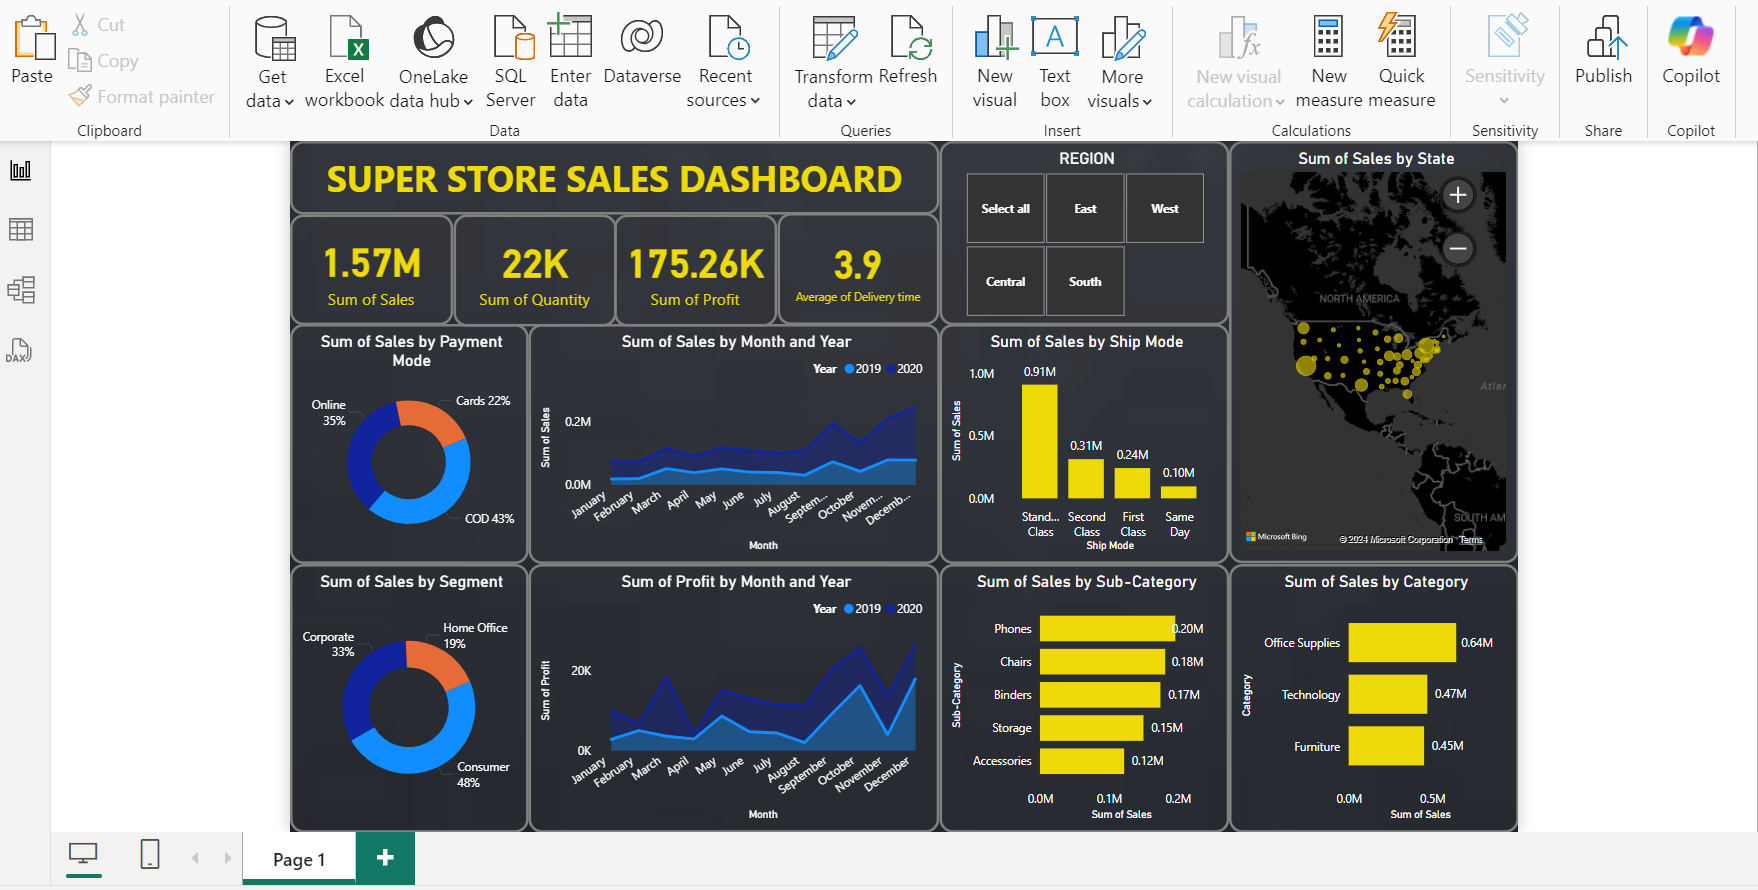

This screenshot's page, from the dashboard's own definition file:
{"tool":"powerbi","page":{"name":"Page 1","canvas":[1280,720],"ordinal":0},"visuals":[{"type":"barChart","fields":{"Category":["SuperStore_Sales_Dataset.Category"],"Y":["Sum(SuperStore_Sales_Dataset.Sales)"]},"box":[978,440,302,280],"z":0},{"type":"barChart","fields":{"Category":["SuperStore_Sales_Dataset.Sub-Category"],"Y":["Sum(SuperStore_Sales_Dataset.Sales)"]},"box":[676,440,302,280],"z":1000},{"type":"columnChart","fields":{"Category":["SuperStore_Sales_Dataset.Ship Mode"],"Y":["Sum(SuperStore_Sales_Dataset.Sales)"]},"box":[676.8,193.8,301.7,250.1],"z":2000},{"type":"map","fields":{"Category":["SuperStore_Sales_Dataset.State"],"Size":["Sum(SuperStore_Sales_Dataset.Sales)"]},"box":[978,0,302,440],"z":3000},{"type":"slicer","title":"REGION","fields":{"Values":["SuperStore_Sales_Dataset.Region"]},"box":[676,0,302,192],"z":4000},{"type":"stackedAreaChart","fields":{"Y":["Sum(SuperStore_Sales_Dataset.Sales)"],"Category":["SuperStore_Sales_Dataset.Order Date.Variation.Date Hierarchy.Month"],"Series":["SuperStore_Sales_Dataset.Order Date.Variation.Date Hierarchy.Year"]},"box":[248.3,190,428.3,250],"z":5000},{"type":"stackedAreaChart","fields":{"Y":["Sum(SuperStore_Sales_Dataset.Profit)"],"Category":["SuperStore_Sales_Dataset.Order Date.Variation.Date Hierarchy.Month"],"Series":["SuperStore_Sales_Dataset.Order Date.Variation.Date Hierarchy.Year"]},"box":[248,440,428,280],"z":6000},{"type":"donutChart","fields":{"Category":["SuperStore_Sales_Dataset.Segment"],"Y":["Sum(SuperStore_Sales_Dataset.Sales)"]},"box":[0,440,248.3,280],"z":7000},{"type":"donutChart","fields":{"Category":["SuperStore_Sales_Dataset.Payment Mode"],"Y":["Sum(SuperStore_Sales_Dataset.Sales)"]},"box":[0,190,248.3,250],"z":8000},{"type":"textbox","box":[0,0,676.7,76.7],"z":9000},{"type":"card","fields":{"Values":["Sum(SuperStore_Sales_Dataset.Sales)"]},"box":[0,76.7,170,115],"z":10000},{"type":"card","fields":{"Values":["Sum(SuperStore_Sales_Dataset.Quantity)"]},"box":[170,76.7,170,116.7],"z":11000},{"type":"card","fields":{"Values":["Sum(SuperStore_Sales_Dataset.Profit)"]},"box":[338.3,76.7,170,116.7],"z":12000},{"type":"card","fields":{"Values":["Avg(SuperStore_Sales_Dataset.AVG delevery time)"]},"box":[508.3,75,168.3,116.7],"z":13000}]}

Visuals, with their boxes on the page's 1280x720 design canvas (x1, y1, x2, y2). These are canvas units, not pixel positions in the 1758x890 screenshot, which may show the page scaled, cropped or inside an application window:
barChart - SuperStore_Sales_Dataset.Category x Sum(SuperStore_Sales_Dataset.Sales): 978,440,1280,720
barChart - SuperStore_Sales_Dataset.Sub-Category x Sum(SuperStore_Sales_Dataset.Sales): 676,440,978,720
columnChart - SuperStore_Sales_Dataset.Ship Mode x Sum(SuperStore_Sales_Dataset.Sales): 677,194,978,444
map - SuperStore_Sales_Dataset.State x Sum(SuperStore_Sales_Dataset.Sales): 978,0,1280,440
"REGION" slicer: 676,0,978,192
stackedAreaChart - Sum(SuperStore_Sales_Dataset.Sales) x SuperStore_Sales_Dataset.Order Date.Variation.Date Hierarchy.Month: 248,190,677,440
stackedAreaChart - Sum(SuperStore_Sales_Dataset.Profit) x SuperStore_Sales_Dataset.Order Date.Variation.Date Hierarchy.Month: 248,440,676,720
donutChart - SuperStore_Sales_Dataset.Segment x Sum(SuperStore_Sales_Dataset.Sales): 0,440,248,720
donutChart - SuperStore_Sales_Dataset.Payment Mode x Sum(SuperStore_Sales_Dataset.Sales): 0,190,248,440
textbox: 0,0,677,77
card - Sum(SuperStore_Sales_Dataset.Sales): 0,77,170,192
card - Sum(SuperStore_Sales_Dataset.Quantity): 170,77,340,193
card - Sum(SuperStore_Sales_Dataset.Profit): 338,77,508,193
card - Avg(SuperStore_Sales_Dataset.AVG delevery time): 508,75,677,192
